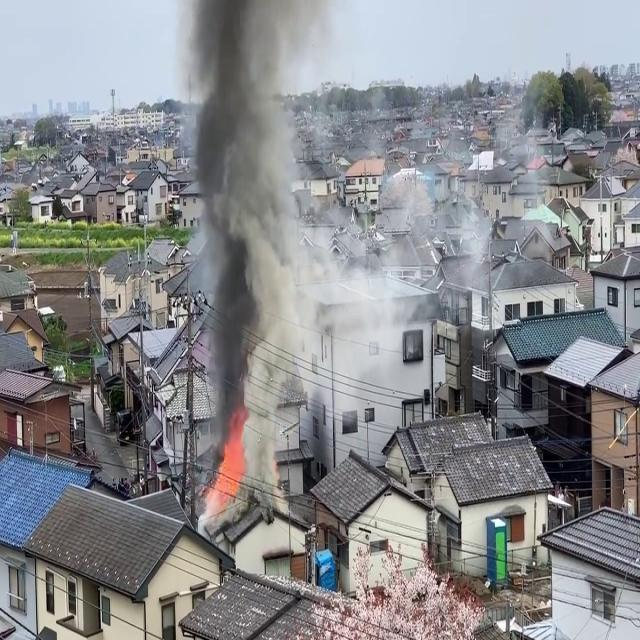Fire: (204, 419, 248, 513)
Smoke: (178, 0, 324, 498)
